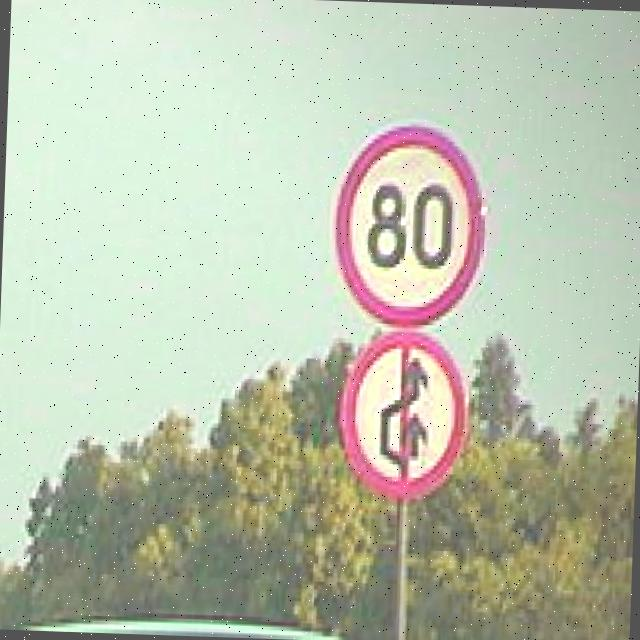Ograniczenie predkosci do 80: (332, 120, 490, 330)
